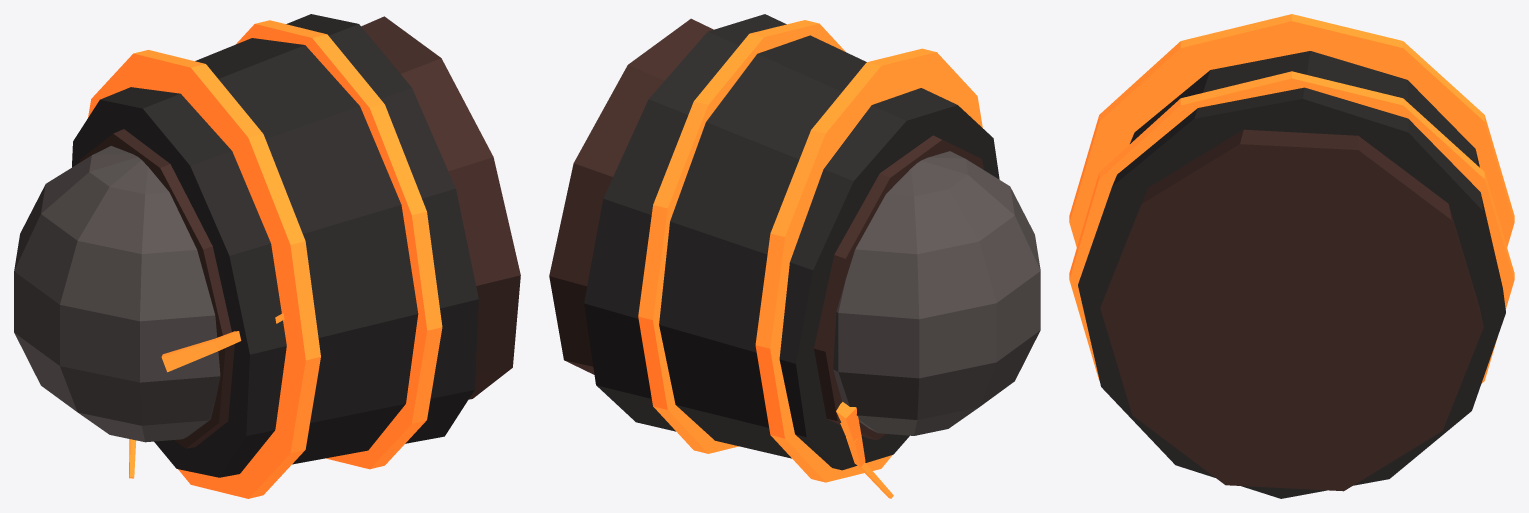
Rendered from hearth_guard_arm_r.glb.
3 views of the same model, side by side, from view 1: azimuth 30°, elevation 25°; view 2: azimuth 150°, elevation 25°; view 3: azimuth 270°, elevation 25° (orthographic). The views are drawn at different scales.
Parts seen in each view (by area): view 1: hearth_guard_arm_r; view 2: hearth_guard_arm_r; view 3: hearth_guard_arm_r.
Part boxes in pixels (x1,y1,x2,y2): hearth_guard_arm_r: [14, 14, 520, 498]; hearth_guard_arm_r: [549, 14, 1040, 498]; hearth_guard_arm_r: [1069, 14, 1514, 498].
Bounding box in the file's own units: 0.395 × 0.3978 × 0.394.
